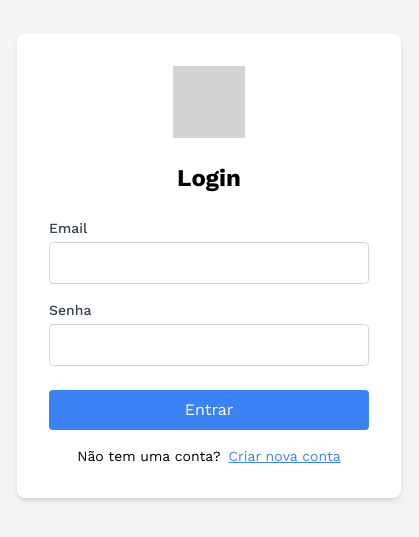
Test: Login Component › Exibe mensagem de erro se o e-mail estiver inválido
Click the button "Criar nova conta": (285, 456) top-left (228, 446), bottom-right (341, 466)
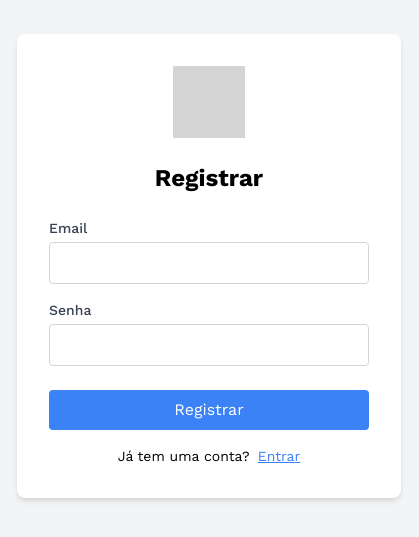
In the field labelled "Email": (209, 263) top-left (49, 242), bottom-right (369, 284), type "teste@exemplo"
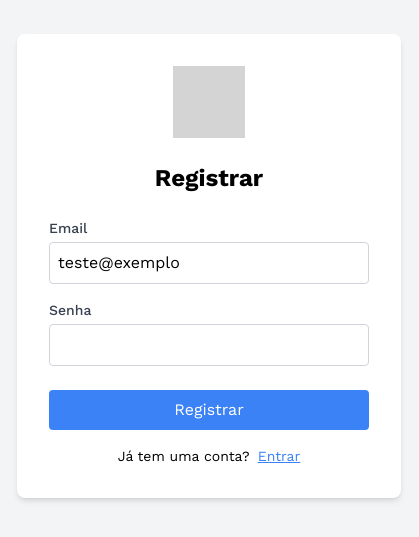
In the password field labelled "Senha": (209, 345) top-left (49, 324), bottom-right (369, 366), type "senha_segura"
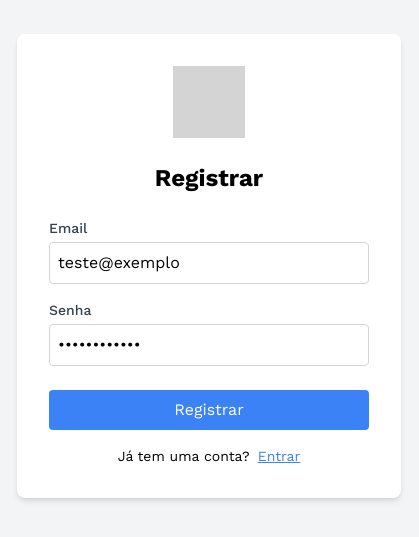
Click the button "Registrar": (209, 410) top-left (49, 390), bottom-right (369, 430)
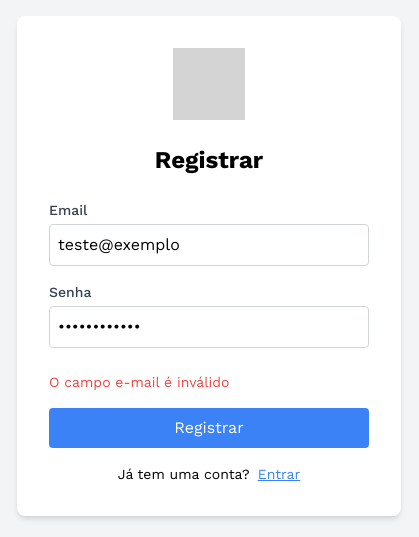
Now the text "O campo e-mail é inválido" is shown, box top-left (49, 374), bottom-right (229, 390)
